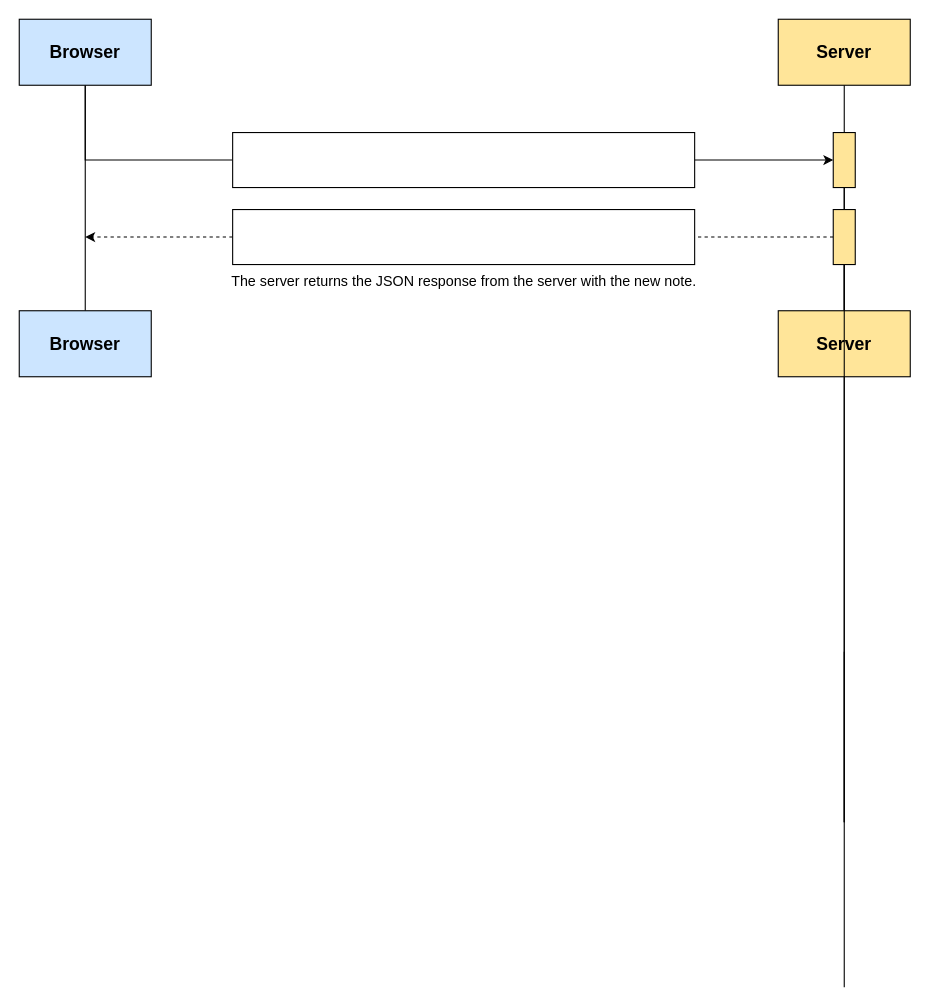
This 930x1008 diagram has some shape labels left out. The shapes that lost their labels are listed below. From the top down, each one's box as (x1, y1, x2, y2) in pixels, then its label:
(232, 131, 695, 188): POST https://studies.cs.helsinki.fi/exampleapp/new_note_spa
(232, 208, 695, 265): 201 JSON {"message": "note created"}
